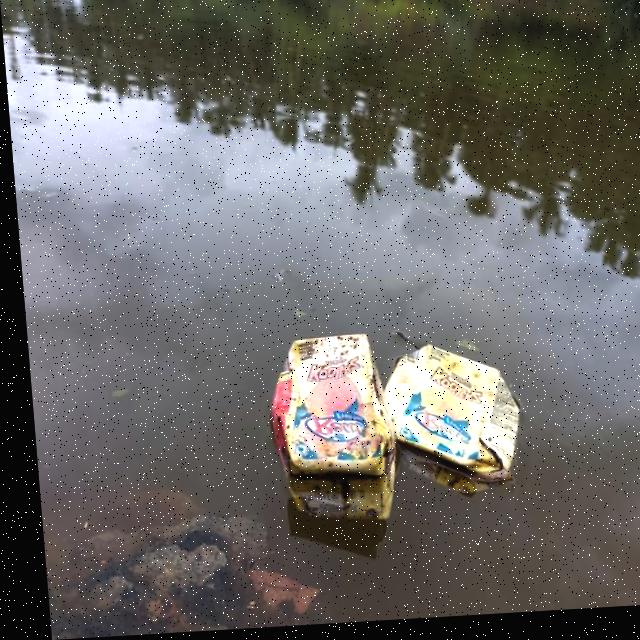paper: (236, 317, 388, 553), (379, 338, 530, 507)
